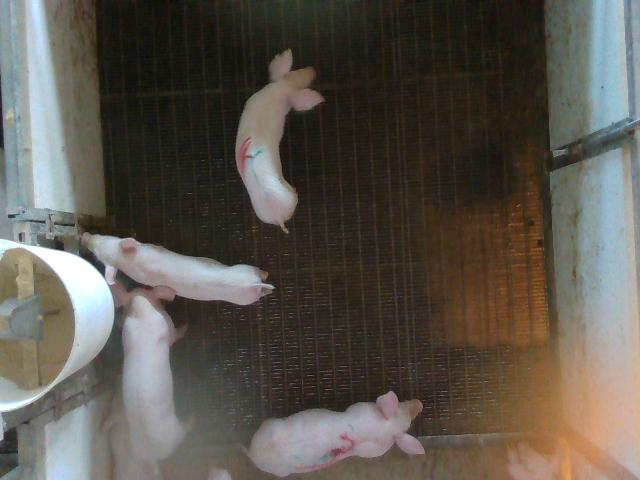pig-3: (248, 391, 423, 476)
pig-4: (235, 49, 324, 232)
